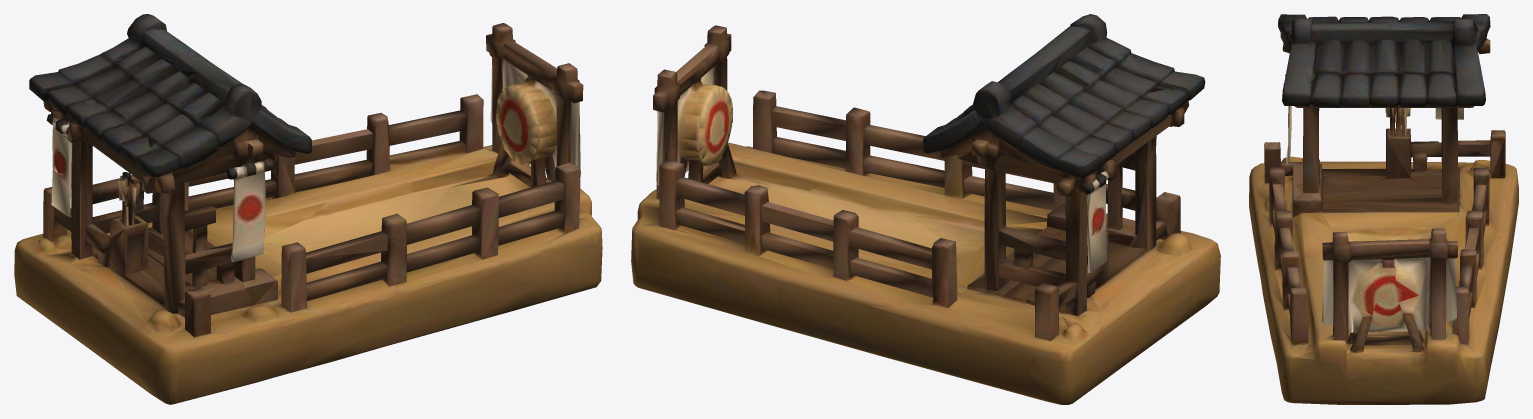
Rendered from range.glb.
3 renders of one model, left to right at view 1: azimuth 30°, elevation 25°; view 2: azimuth 150°, elevation 25°; view 3: azimuth 270°, elevation 25°, orthographic. The views are drawn at different scales.
Visible parts, largest first — view 1: tripo_node_c78bf0c7-cf18-4733-8bed-77680ce7f32e; view 2: tripo_node_c78bf0c7-cf18-4733-8bed-77680ce7f32e; view 3: tripo_node_c78bf0c7-cf18-4733-8bed-77680ce7f32e.
Part boxes in pixels (x1,y1,x2,y2): tripo_node_c78bf0c7-cf18-4733-8bed-77680ce7f32e: (14, 14, 602, 404); tripo_node_c78bf0c7-cf18-4733-8bed-77680ce7f32e: (631, 14, 1220, 404); tripo_node_c78bf0c7-cf18-4733-8bed-77680ce7f32e: (1249, 14, 1518, 404).
Size of the model in its own units: 0.9807 by 0.5548 by 0.5688.
1 material, 1 textured.
